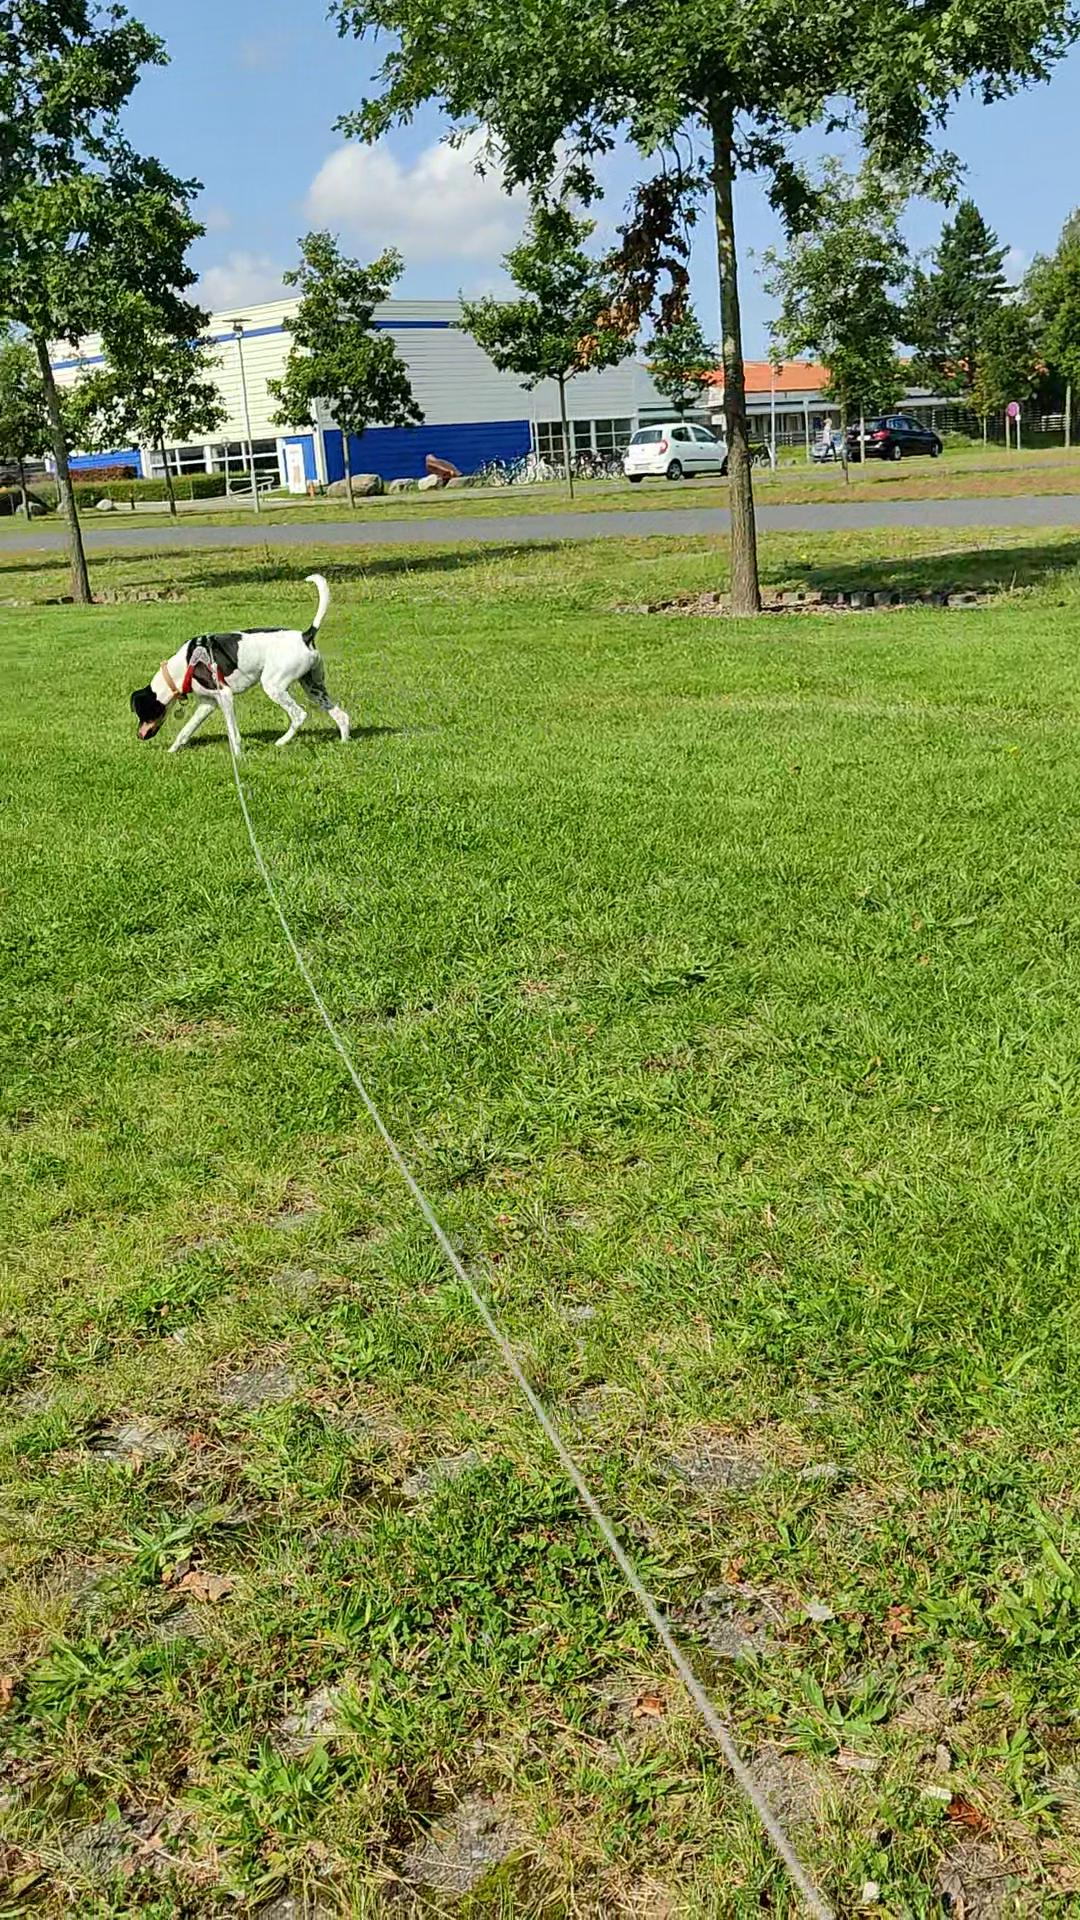Dog: (125, 571, 353, 752)
